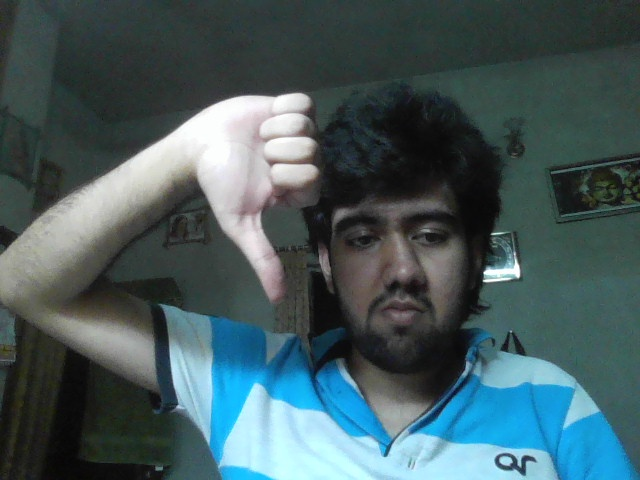NotOk: (200, 93, 322, 306)
